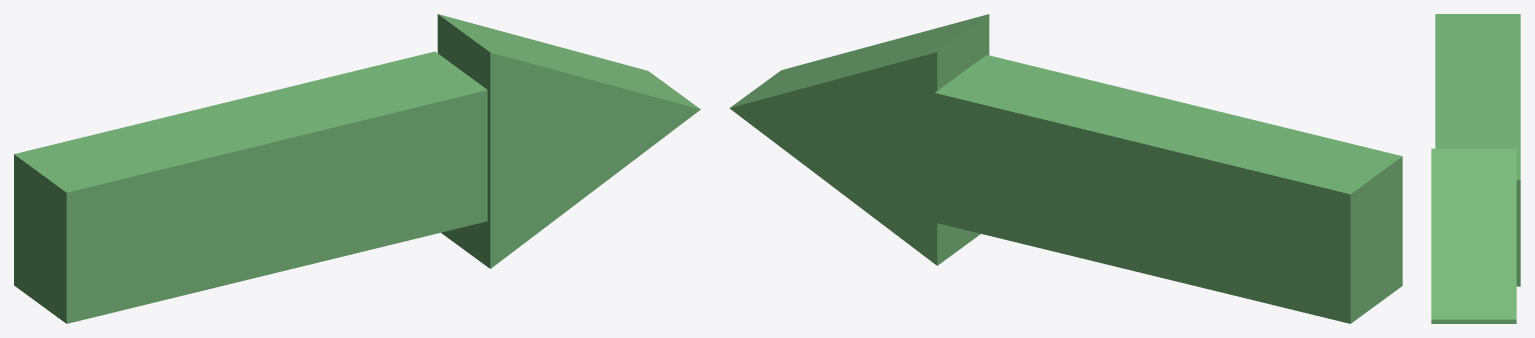
File: asset.glb
3 renders of one model, left to right at view 1: azimuth 30°, elevation 25°; view 2: azimuth 150°, elevation 25°; view 3: azimuth 270°, elevation 25°, orthographic. The views are drawn at different scales.
Parts seen in each view (by area): view 1: Mesh_Mesh_head_geo.001_lambert2SG.001; view 2: Mesh_Mesh_head_geo.001_lambert2SG.001; view 3: Mesh_Mesh_head_geo.001_lambert2SG.001.
Part boxes in pixels (x1,y1,x2,y2): Mesh_Mesh_head_geo.001_lambert2SG.001: (14, 14, 700, 323); Mesh_Mesh_head_geo.001_lambert2SG.001: (729, 14, 1402, 323); Mesh_Mesh_head_geo.001_lambert2SG.001: (1431, 14, 1520, 323).
Bounding box in the file's own units: 0.145 × 0.0475 × 0.022.
